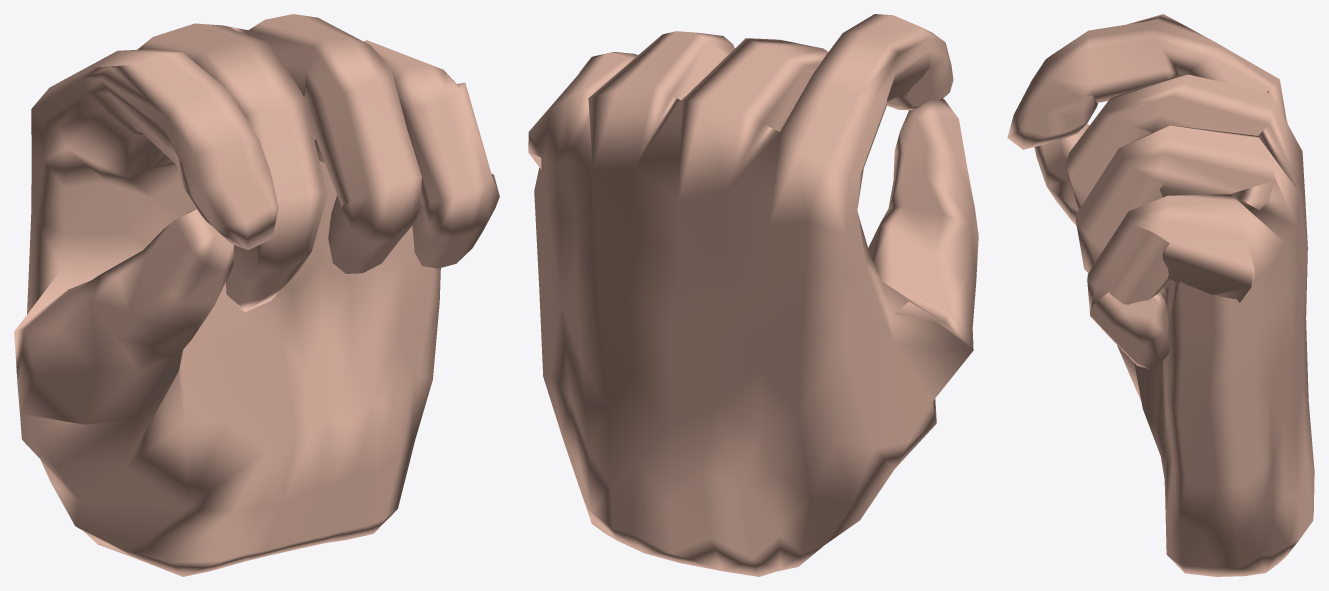
Rendered from MAO_L_COM_O.obj.
The picture shows the model from 3 angles, left to right: view 1: azimuth 30°, elevation 25°; view 2: azimuth 150°, elevation 25°; view 3: azimuth 270°, elevation 25°; orthographic projection. The views are drawn at different scales.
Visible parts, largest first — view 1: mao_dir polySurface1; view 2: mao_dir polySurface1; view 3: mao_dir polySurface1.
Boxes of the visible parts, left/top/right/bottom form: mao_dir polySurface1: left=14, top=14, right=499, bottom=576; mao_dir polySurface1: left=528, top=14, right=978, bottom=576; mao_dir polySurface1: left=1007, top=14, right=1314, bottom=576.
Size of the model in its own units: 137 by 162 by 98.92.
